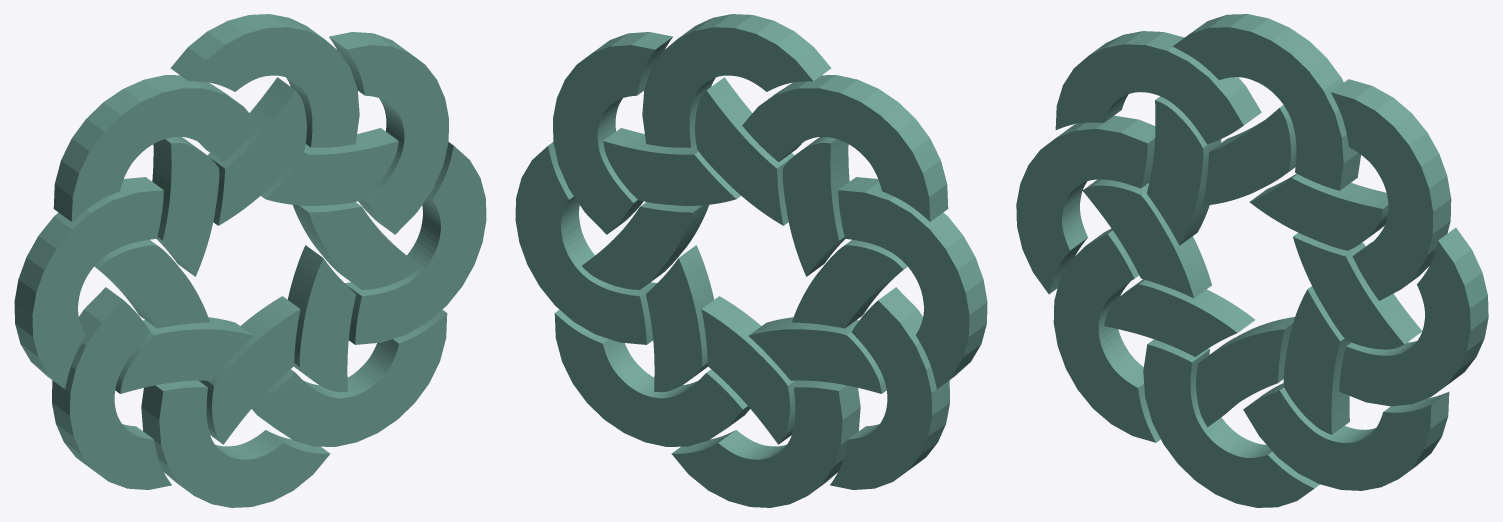
The model's file is chatgpt.gltf.
3 renders of one model, left to right at view 1: azimuth 30°, elevation 25°; view 2: azimuth 150°, elevation 25°; view 3: azimuth 330°, elevation 25°, orthographic.
Parts seen in each view (by area): view 1: logo; view 2: logo; view 3: logo.
Boxes of the visible parts, box(x1,y1,x2,y2) form: logo: box(14, 14, 486, 507); logo: box(515, 14, 987, 507); logo: box(1016, 14, 1488, 507).
Size of the model in its own units: 0.3975 by 0.3976 by 0.0273.
